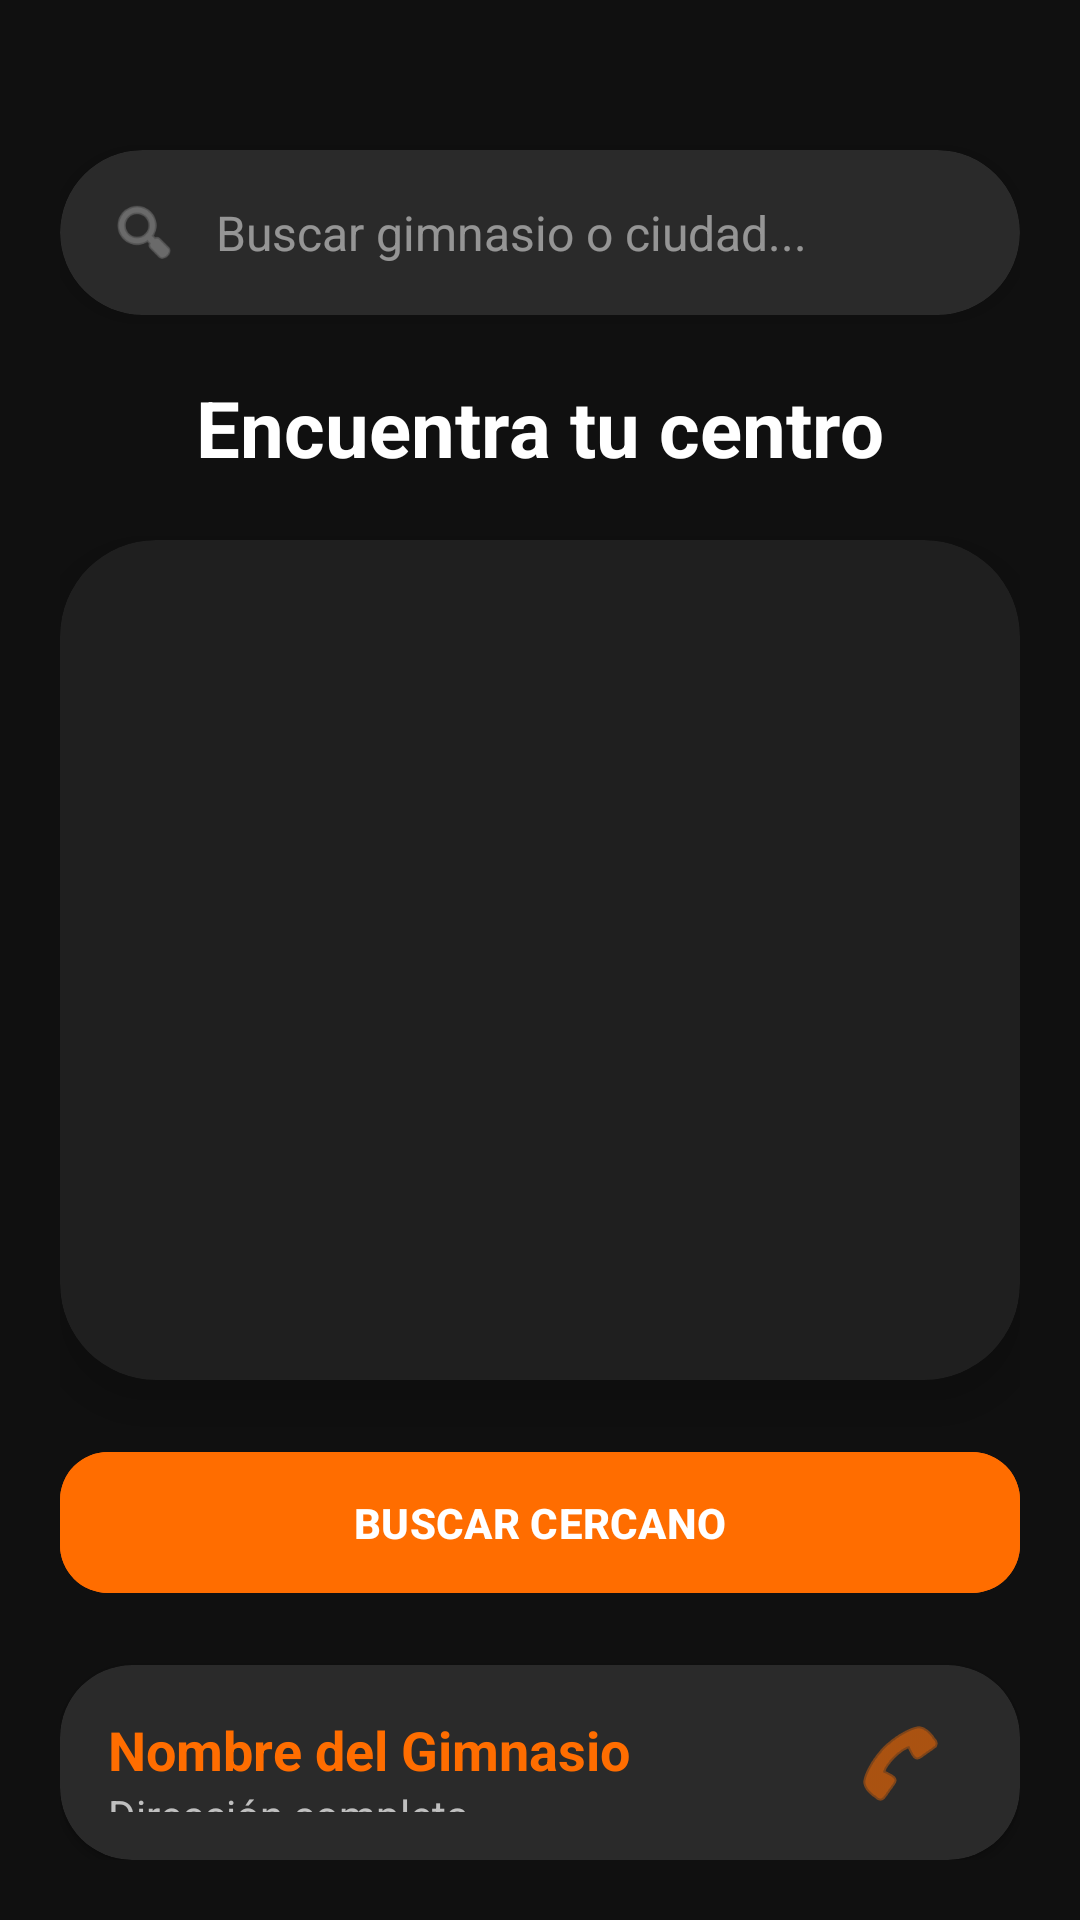

Where to tap for icons on this 1080 x 1920 app screen, as point (x, y):
call: point (900, 1763)
search: point (144, 232)
